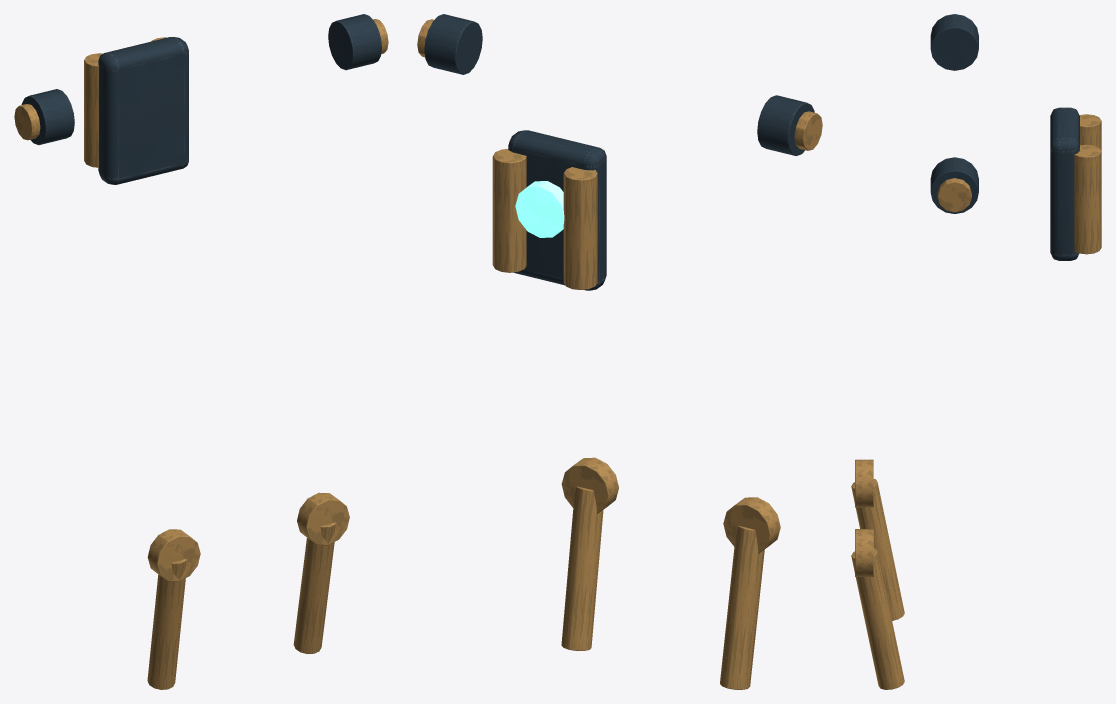
The model's file is shock_frame.glb.
3 views of the same model, side by side, from view 1: azimuth 30°, elevation 25°; view 2: azimuth 150°, elevation 25°; view 3: azimuth 270°, elevation 25° (orthographic). The views are drawn at different scales.
Parts seen in each view (by area): view 1: shock_frame__backplate, shock_frame__shin_rail_L, shock_frame__shin_rail_R, shock_frame__shoulder_L, shock_frame__knee_R, shock_frame__knee_L, shock_frame__shoulder_R, shock_frame__back_damper_neg1, shock_frame__shoulder_pin_R; view 2: shock_frame__backplate, shock_frame__shin_rail_R, shock_frame__shin_rail_L, shock_frame__back_damper_neg1, shock_frame__back_damper_1, shock_frame__shoulder_L, shock_frame__back_core, shock_frame__shoulder_R, shock_frame__knee_L, shock_frame__knee_R, shock_frame__shoulder_pin_R; view 3: shock_frame__backplate, shock_frame__shin_rail_L, shock_frame__back_damper_1, shock_frame__shoulder_R, shock_frame__shin_rail_R, shock_frame__shoulder_L, shock_frame__shoulder_pin_L, shock_frame__knee_R, shock_frame__knee_L, shock_frame__back_damper_neg1.
Part boxes in pixels (box(x1,y1,x2,y2)): shock_frame__backplate: box(98, 37, 188, 184); shock_frame__shin_rail_L: box(293, 522, 335, 653); shock_frame__shin_rail_R: box(147, 559, 186, 689); shock_frame__shoulder_L: box(328, 14, 381, 70); shock_frame__knee_R: box(147, 529, 200, 581); shock_frame__knee_L: box(297, 492, 349, 545); shock_frame__shoulder_R: box(21, 89, 74, 145); shock_frame__back_damper_neg1: box(84, 53, 102, 167); shock_frame__shoulder_pin_R: box(14, 104, 40, 140); shock_frame__backplate: box(508, 130, 606, 290); shock_frame__shin_rail_R: box(720, 525, 764, 689); shock_frame__shin_rail_L: box(561, 486, 603, 650); shock_frame__back_damper_neg1: box(563, 167, 597, 289); shock_frame__back_damper_1: box(492, 149, 526, 272); shock_frame__shoulder_L: box(424, 14, 482, 74); shock_frame__back_core: box(515, 181, 564, 237); shock_frame__shoulder_R: box(757, 95, 814, 155); shock_frame__knee_L: box(561, 457, 618, 513); shock_frame__knee_R: box(723, 497, 780, 553); shock_frame__shoulder_pin_R: box(794, 111, 822, 150); shock_frame__backplate: box(1050, 107, 1079, 260); shock_frame__shin_rail_L: box(851, 548, 904, 689); shock_frame__back_damper_1: box(1074, 144, 1101, 254); shock_frame__shoulder_R: box(930, 14, 978, 70); shock_frame__shin_rail_R: box(851, 479, 904, 620); shock_frame__shoulder_L: box(930, 157, 978, 213); shock_frame__shoulder_pin_L: box(937, 178, 971, 212); shock_frame__knee_R: box(855, 459, 873, 507); shock_frame__knee_L: box(855, 529, 873, 576); shock_frame__back_damper_neg1: box(1079, 114, 1101, 150).
Bounding box in the file's own units: 0.732 × 1.15 × 0.4653.
2 materials, 2 textured.
